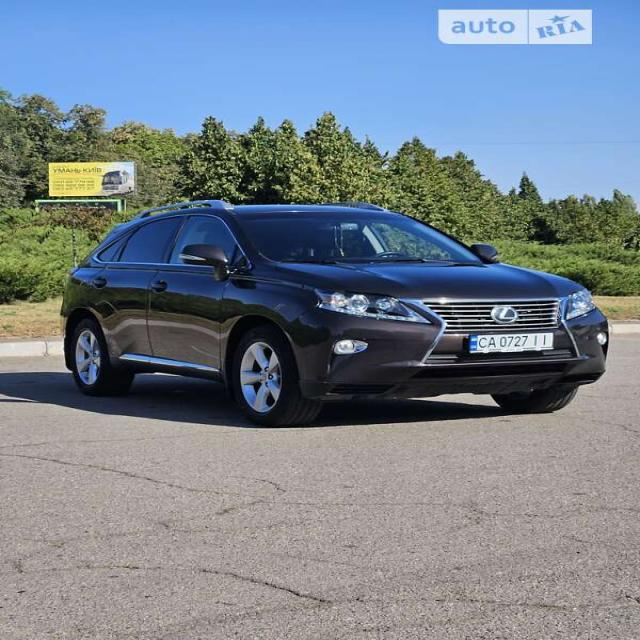plate: (470, 327, 556, 357)
